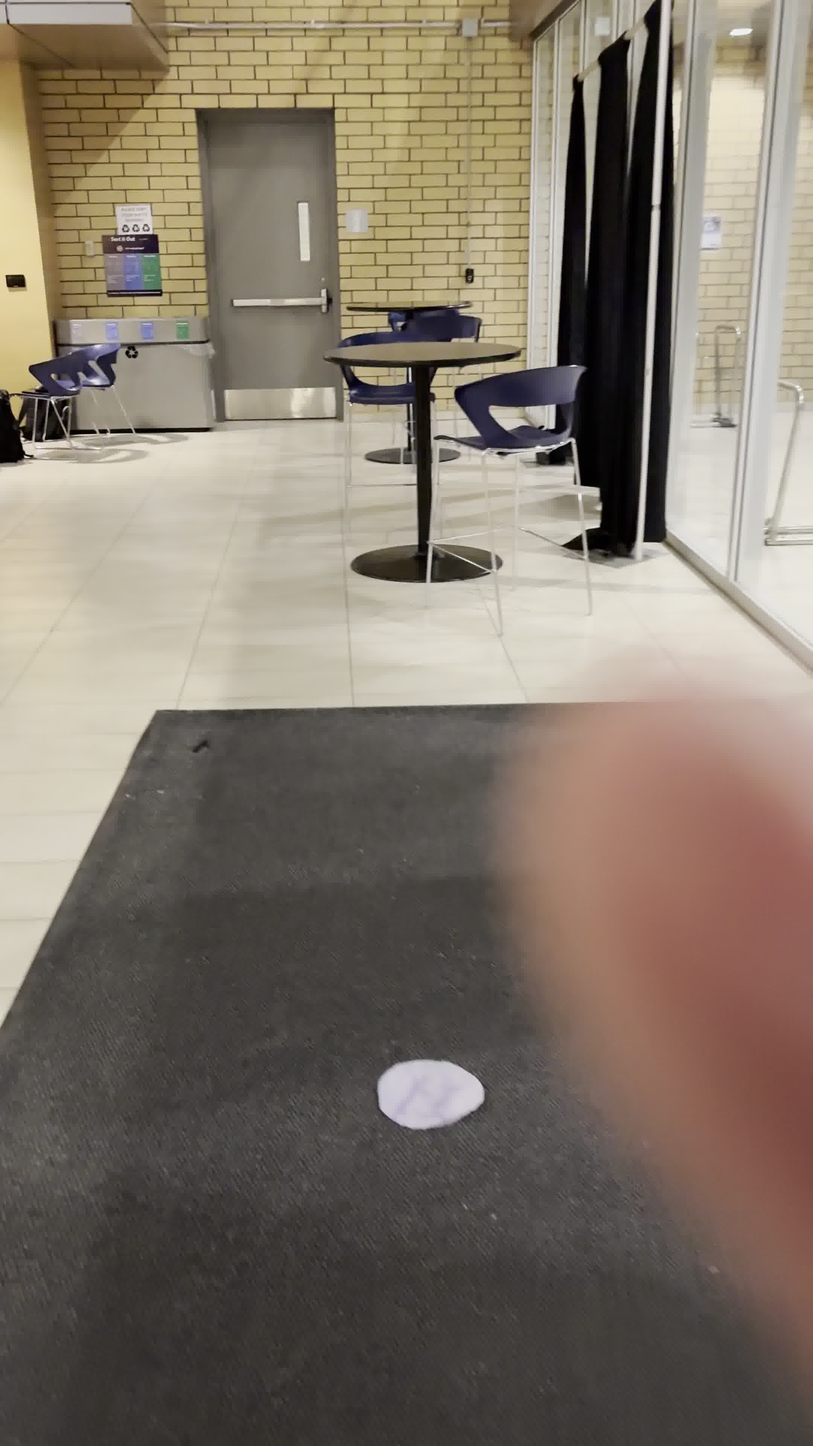Target: (372, 1056, 486, 1132)
